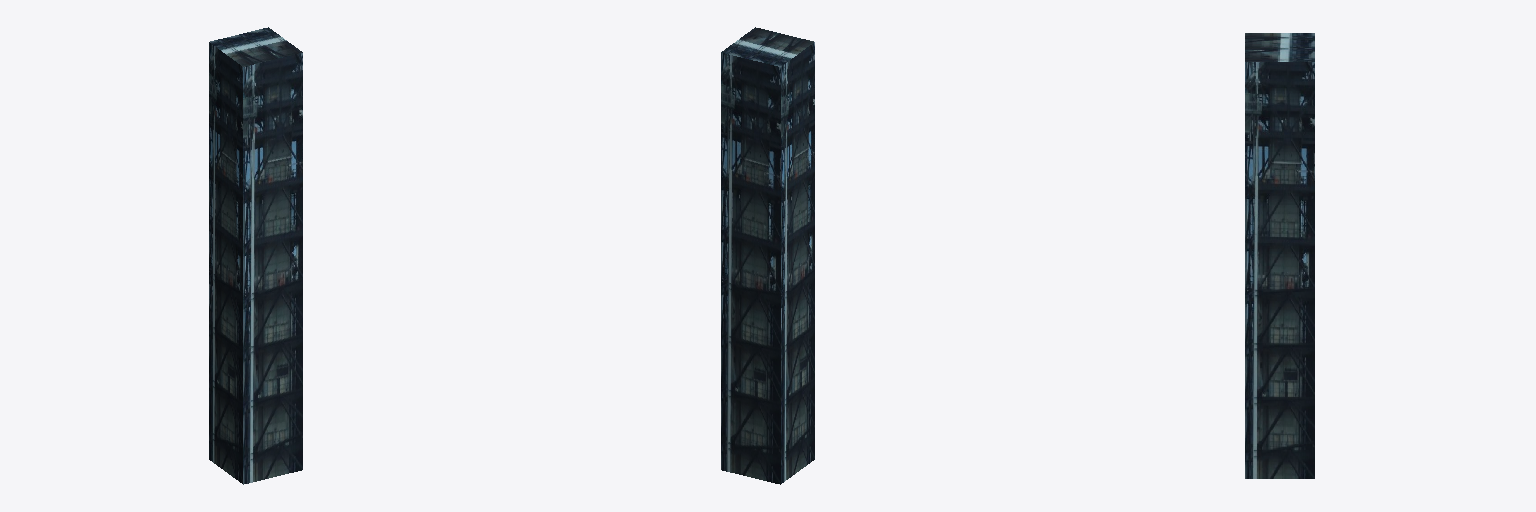
3 views of the same model, side by side, from view 1: azimuth 30°, elevation 25°; view 2: azimuth 150°, elevation 25°; view 3: azimuth 270°, elevation 25° (orthographic).
Parts seen in each view (by area): view 1: cube; view 2: cube; view 3: cube.
Boxes of the visible parts, <box> form: cube: <box>209,27,302,484</box>; cube: <box>721,27,814,484</box>; cube: <box>1245,33,1314,478</box>.
Size of the model in its own units: 6 by 40 by 6.
Materials: 1 (1 with a texture image).